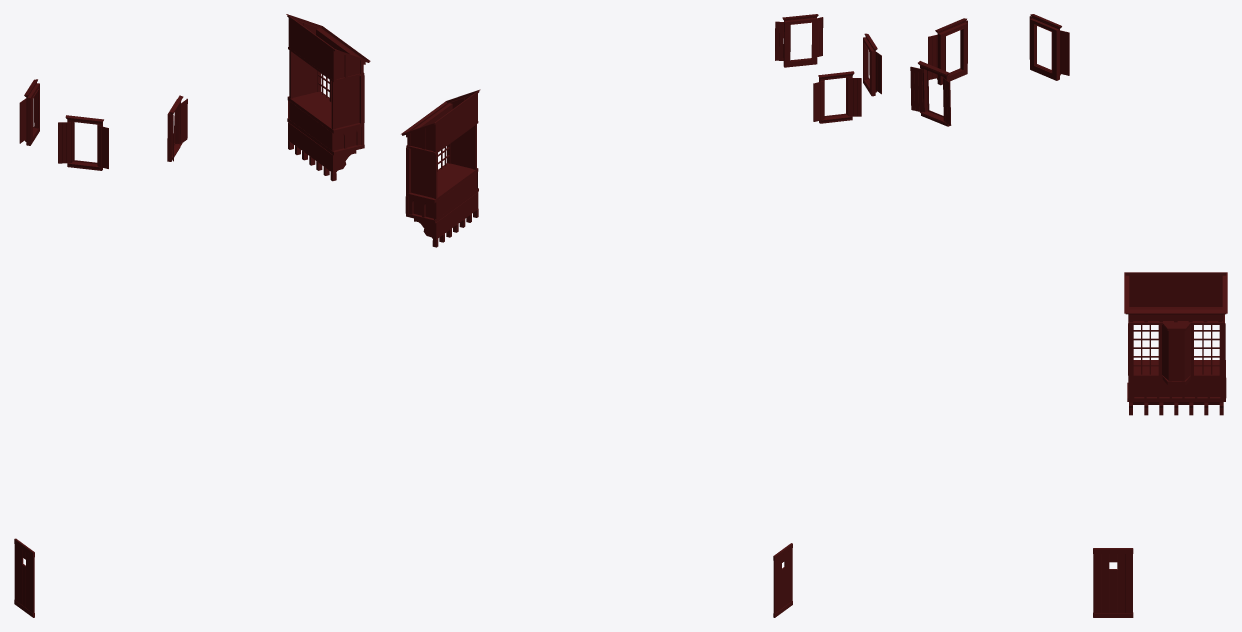
Rendered from FairyTale106.gltf.
The picture shows the model from 3 angles, left to right: view 1: azimuth 30°, elevation 25°; view 2: azimuth 150°, elevation 25°; view 3: azimuth 270°, elevation 25°; orthographic projection. The views are drawn at different scales.
Parts seen in each view (by area): view 1: HouseCastle_WoodDark; view 2: HouseCastle_WoodDark; view 3: HouseCastle_WoodDark.
Part boxes in pixels (bbox=[...]): HouseCastle_WoodDark: bbox=[14, 14, 370, 617]; HouseCastle_WoodDark: bbox=[401, 14, 881, 617]; HouseCastle_WoodDark: bbox=[910, 14, 1227, 617].
Size of the model in its own units: 13.75 by 18.07 by 8.88.
